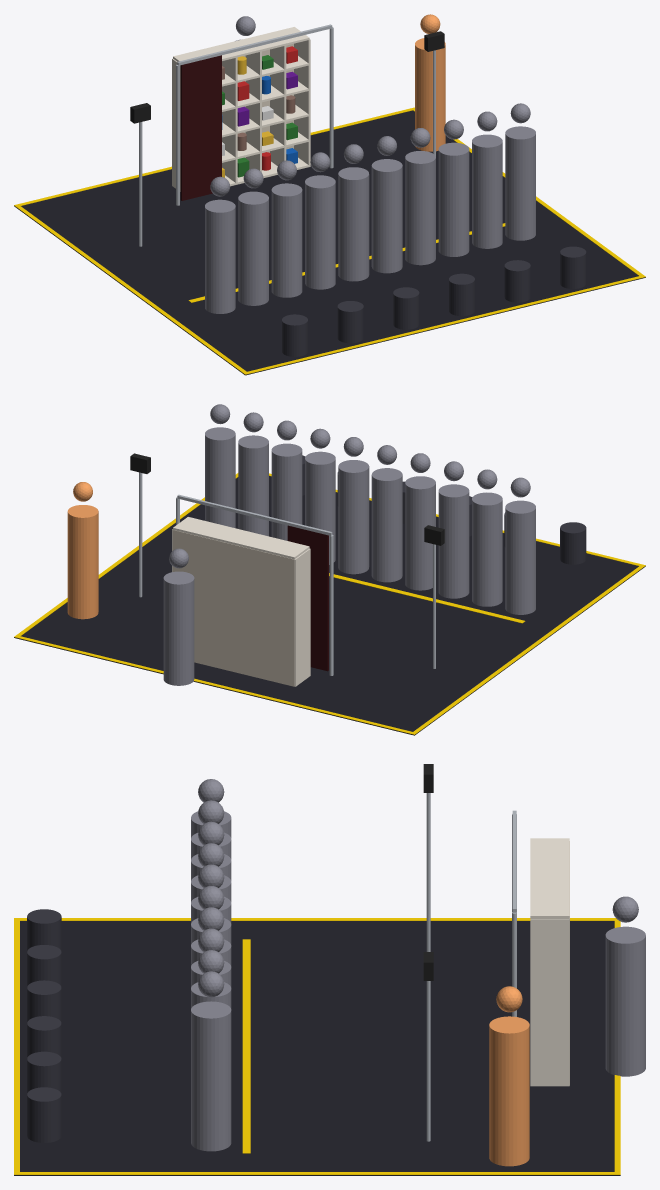
File: G07_WITNESS.obj
3 renders of one model, top to bottom at view 1: azimuth 30°, elevation 25°; view 2: azimuth 150°, elevation 25°; view 3: azimuth 270°, elevation 25°, orthographic. The views are drawn at different scales.
Visible parts, largest first — view 1: floor_area, curtain_panel_left, player_2_body, player_4_body, player_5_body, player_7_body, player_9_body, player_1_body, player_3_body, player_8_body, player_6_body, player_0_body (+24 smaller); view 2: floor_area, shelf_back, player_4_body, assistant_backstage_body, player_5_body, operator_body, player_2_body, player_1_body, player_0_body, player_3_body, curtain_panel_left, player_9_body (+13 smaller); view 3: floor_area, shelf_v_5, player_9_body, operator_body, assistant_backstage_body, shelf_h_5, answer_line, spectator_stool_5, safety_border_e, safety_border_s, safety_border_w, spectator_stool_4 (+7 smaller).
Part boxes in pixels (x1,y1,x2,y2): floor_area: (14, 110, 645, 375); curtain_panel_left: (180, 55, 221, 200); player_2_body: (271, 183, 302, 297); player_4_body: (338, 167, 369, 281); player_5_body: (371, 159, 402, 273); player_7_body: (438, 142, 469, 256); player_9_body: (505, 126, 535, 240); player_1_body: (238, 191, 268, 305); player_3_body: (305, 175, 335, 289); player_8_body: (472, 134, 502, 248); player_6_body: (405, 151, 435, 265); player_0_body: (205, 199, 235, 313); floor_area: (14, 476, 645, 735); shelf_back: (173, 530, 294, 686); player_4_body: (371, 468, 402, 582); assistant_backstage_body: (163, 571, 194, 685); player_5_body: (338, 460, 369, 574); operator_body: (67, 505, 98, 619); player_2_body: (438, 484, 469, 598); player_1_body: (472, 492, 502, 606); player_0_body: (505, 500, 535, 614); player_3_body: (405, 476, 435, 590); curtain_panel_left: (287, 525, 328, 671); player_9_body: (205, 427, 235, 528); floor_area: (14, 921, 620, 1175); shelf_v_5: (530, 919, 569, 1086); player_9_body: (191, 1001, 231, 1151); operator_body: (489, 1016, 529, 1166); assistant_backstage_body: (605, 926, 645, 1076); shelf_h_5: (530, 838, 569, 918); answer_line: (242, 939, 250, 1153); spectator_stool_5: (27, 1087, 61, 1142); safety_border_e: (14, 1172, 620, 1174); safety_border_s: (14, 918, 19, 1174); safety_border_w: (14, 918, 617, 920); spectator_stool_4: (27, 1051, 61, 1093).
Size of the model in its own units: 6 by 2.05 by 6.25.
